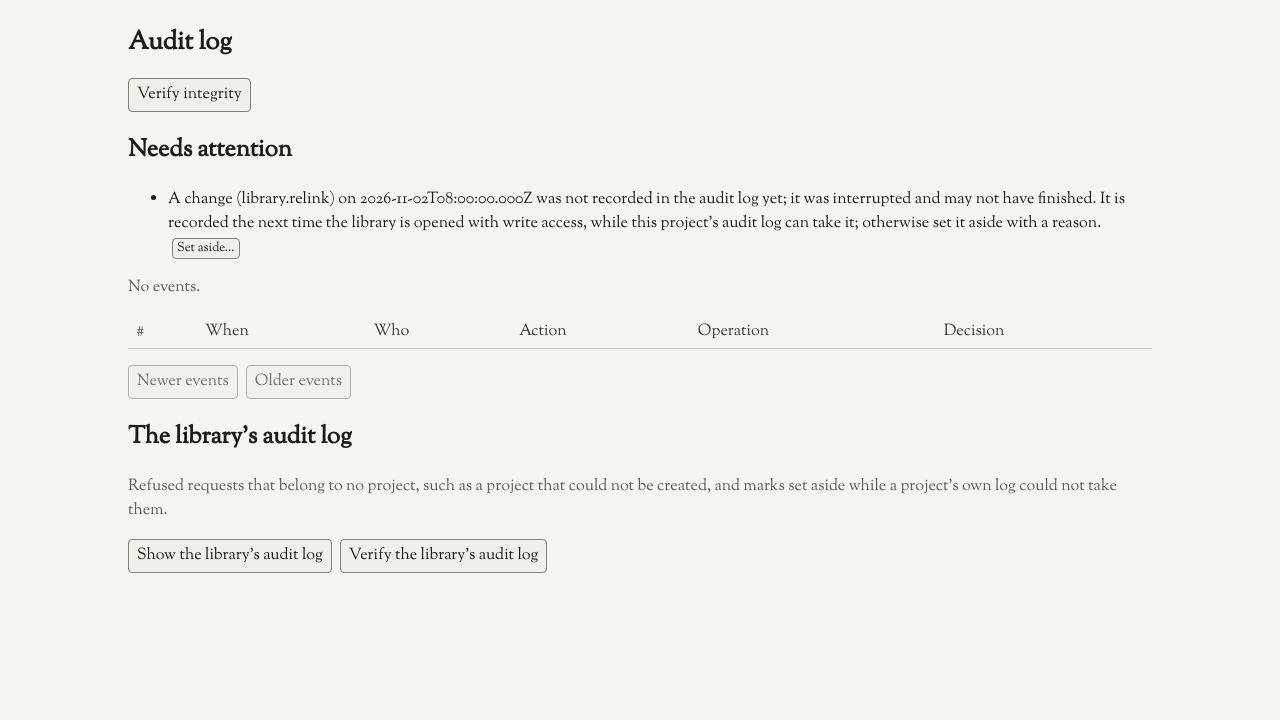
Scenario: Task 50 (R154 b, d): late entries, attention marks, the library's audit log › Set aside: focus moves into the dialog and is trapped; Escape restores it; a reason is required; after it, focus is on the list's heading
Click the button "Set aside…" at (206,249), box [172,238,240,259]
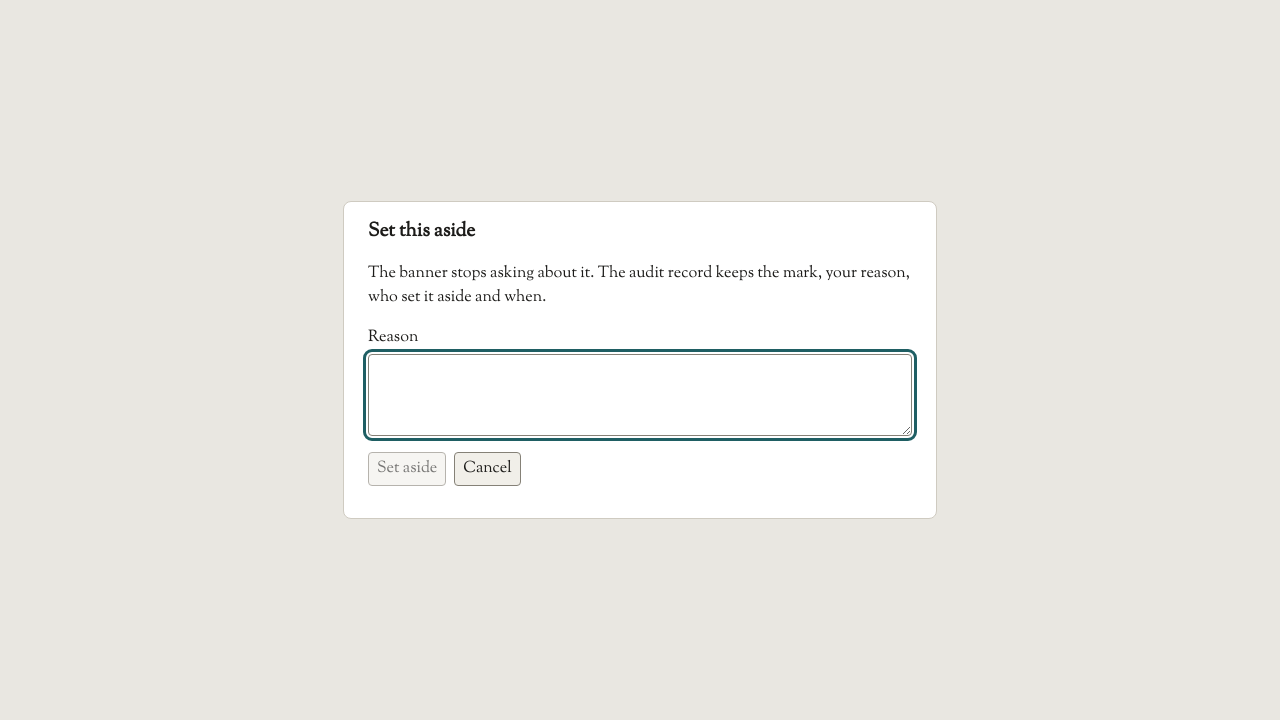
Expected: the button "Set aside" is disabled, [368,452,446,486]
Press Tab
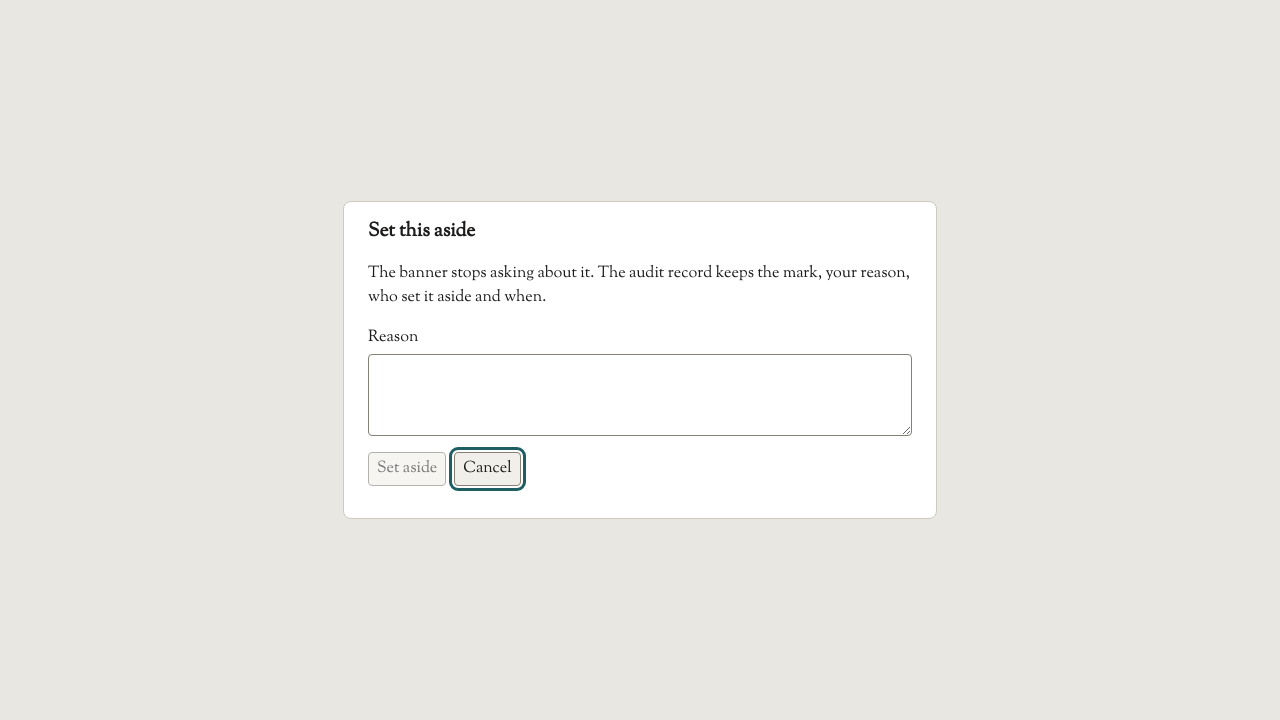
Press Tab
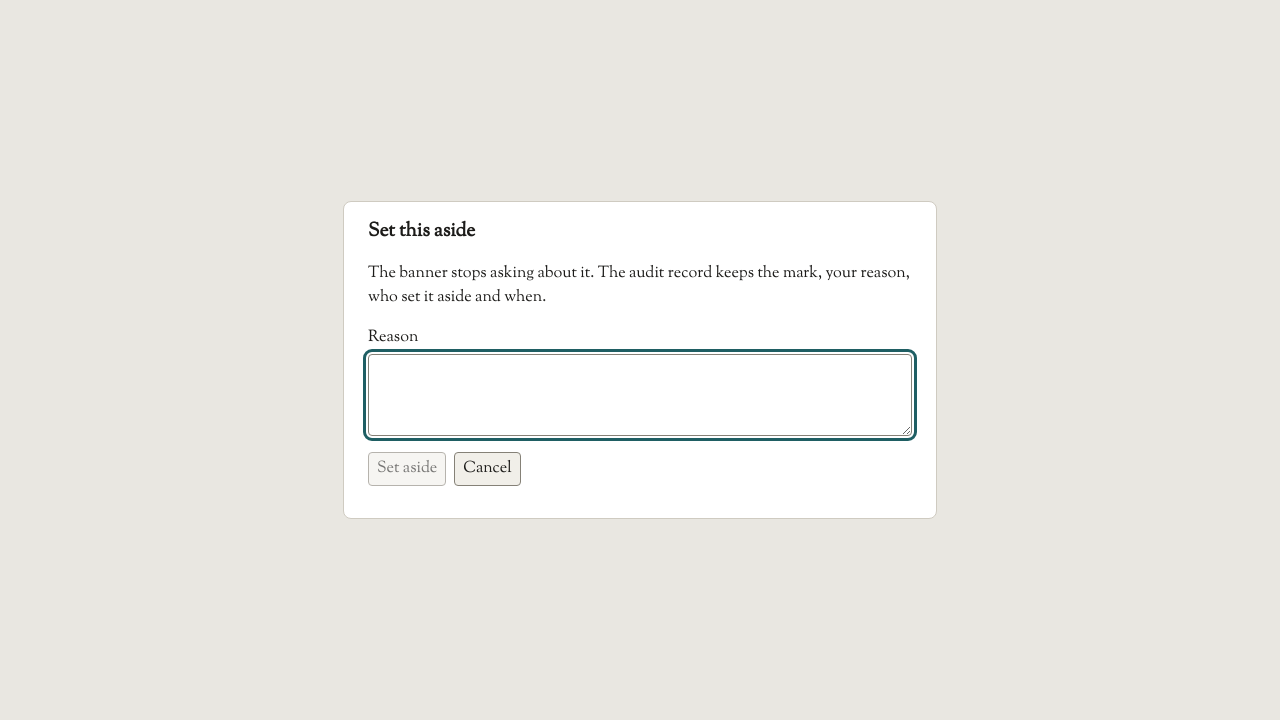
Press Escape
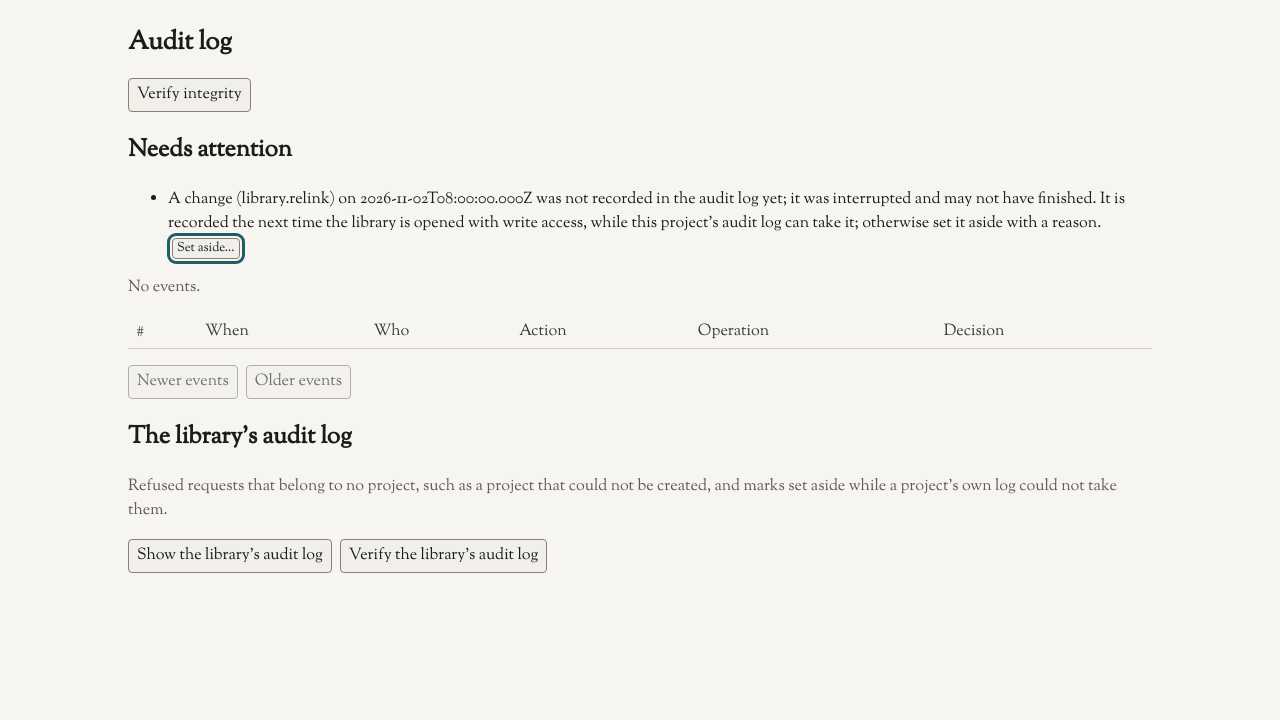
Expected: the dialog is gone
Click the button "Set aside…" at (206,249), box [172,238,240,259]
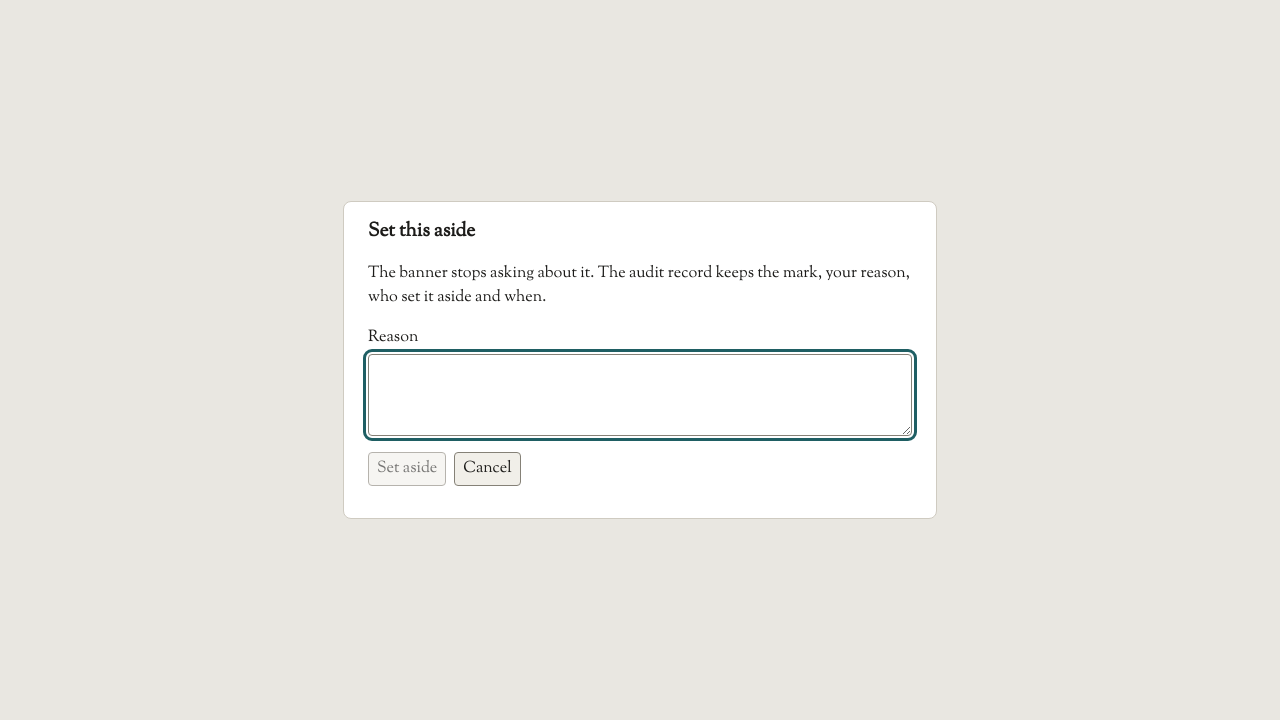
Type "Recorded on paper" into the text box labelled "Reason" at (640,395), box [368,354,912,436]
Click the button "Set aside" at (407,469), box [368,452,446,486]
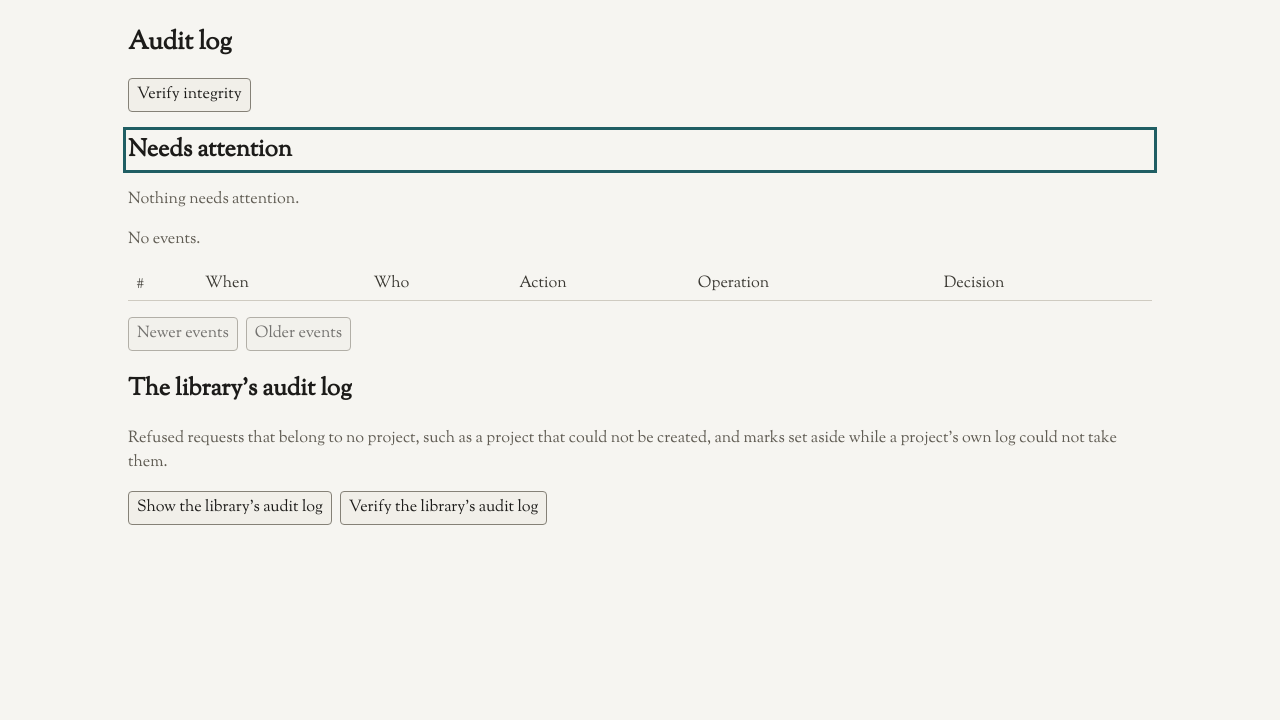
Expected: the text "Nothing needs attention." is shown, [128,188,299,211]
Expected: the dialog is gone
